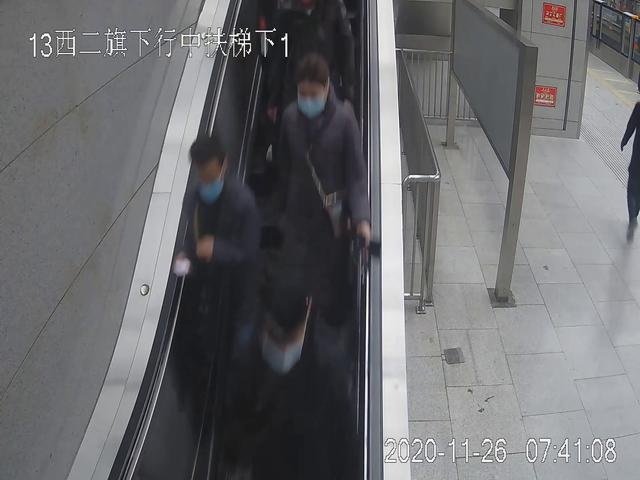person: (169, 139, 275, 384), (226, 272, 350, 480), (278, 56, 372, 329)
